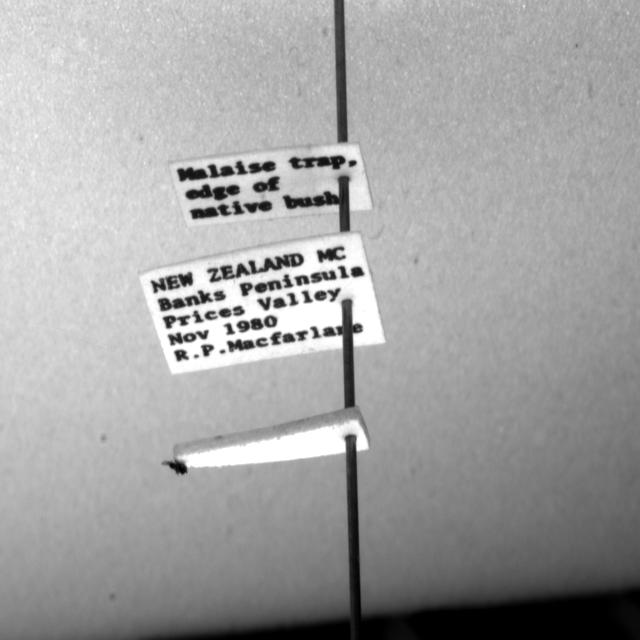typed_label: (140, 232, 385, 375), (169, 142, 372, 227)
